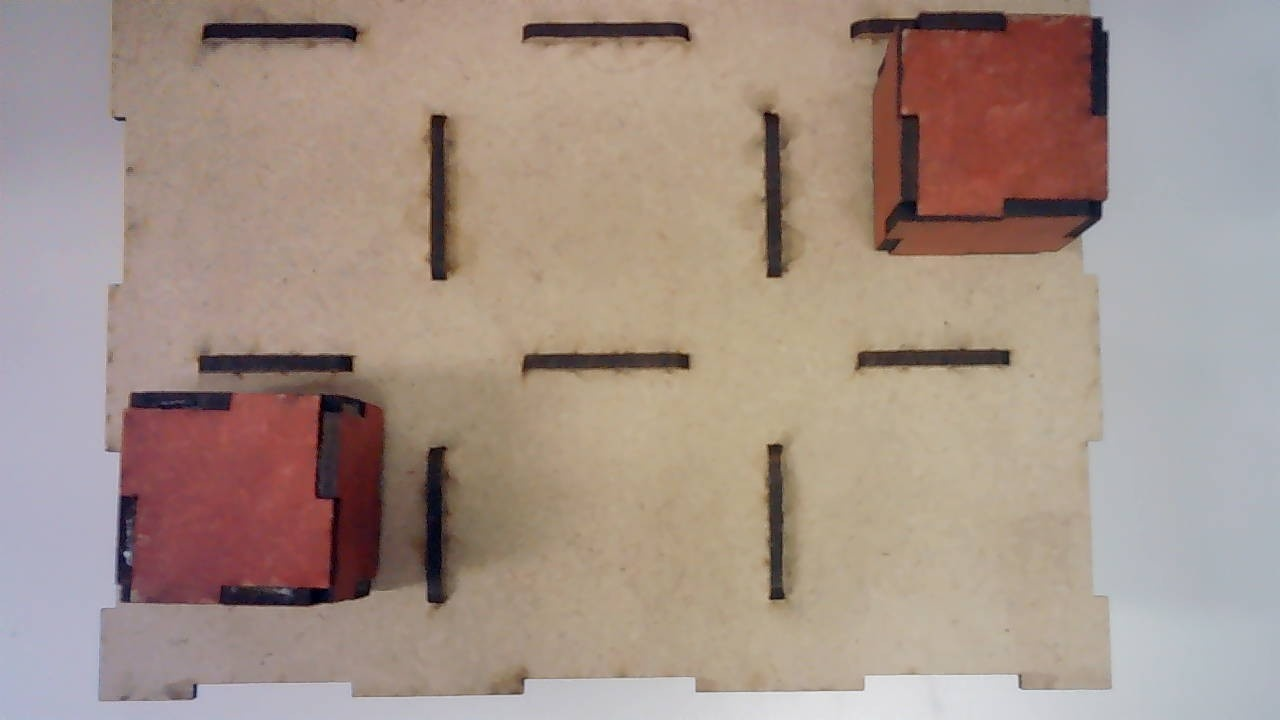red box: (115, 387, 383, 611), (868, 8, 1107, 257)
